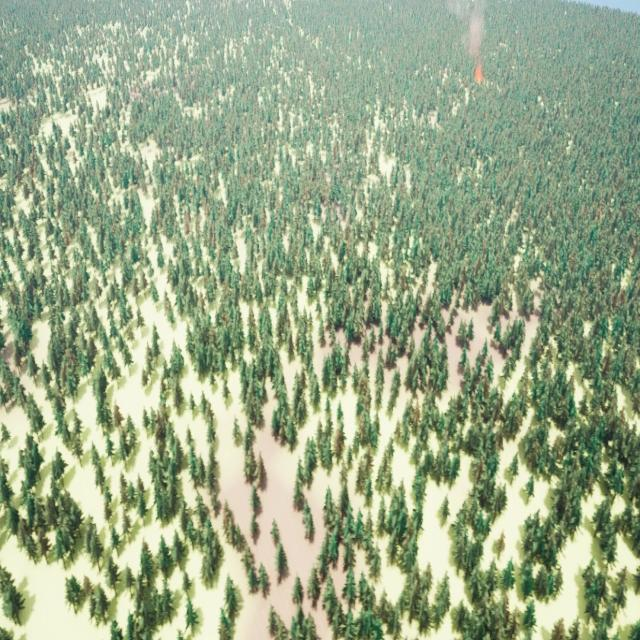fire: (474, 65, 486, 84)
smoke: (450, 0, 492, 53)
